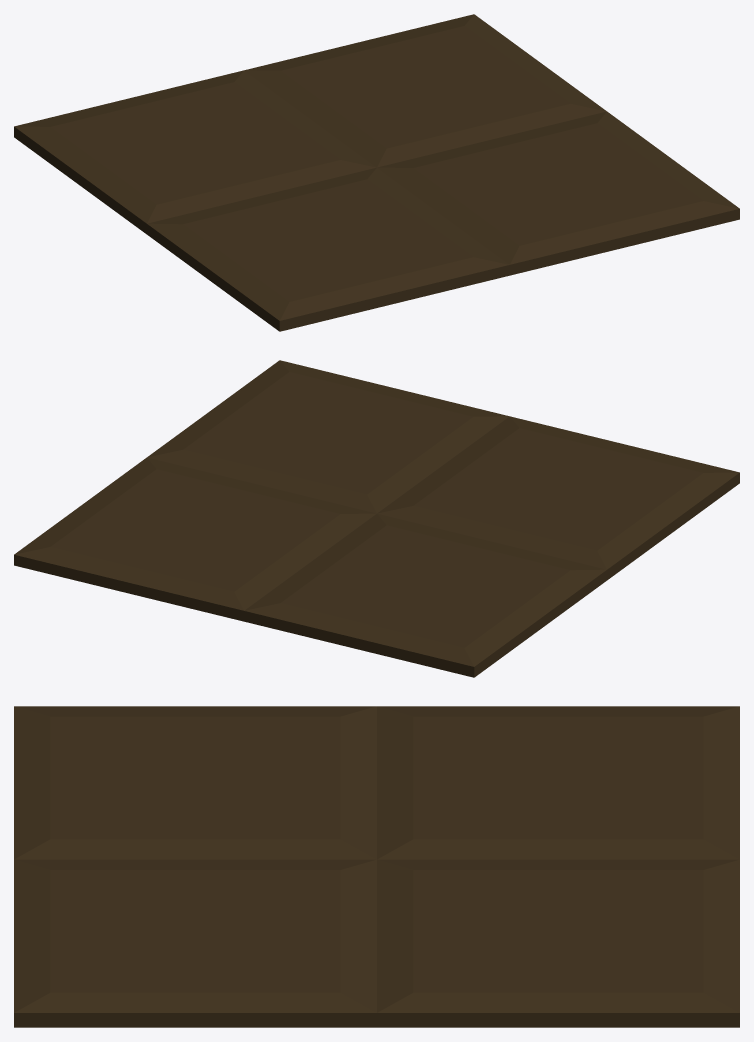
The model's file is Floor.fbx.
The picture shows the model from 3 angles, top to bottom: view 1: azimuth 30°, elevation 25°; view 2: azimuth 150°, elevation 25°; view 3: azimuth 270°, elevation 25°; orthographic projection. The views are drawn at different scales.
Visible parts, largest first — view 1: WoodBigFloorTile; view 2: WoodBigFloorTile; view 3: WoodBigFloorTile.
Part boxes in pixels (x1,y1,x2,y2): WoodBigFloorTile: [14, 14, 739, 331]; WoodBigFloorTile: [14, 360, 739, 677]; WoodBigFloorTile: [14, 706, 739, 1027].
Size of the model in its own units: 400 by 12 by 400.
